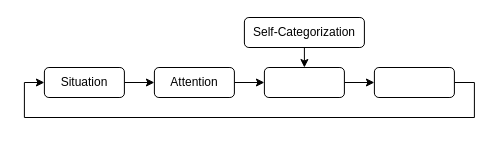
Image size: 500x143. Some labels were removed from this diagram. Each missing label, with the centre of its shape:
Appraisal: the point at 303,82
Response: the point at 413,82
